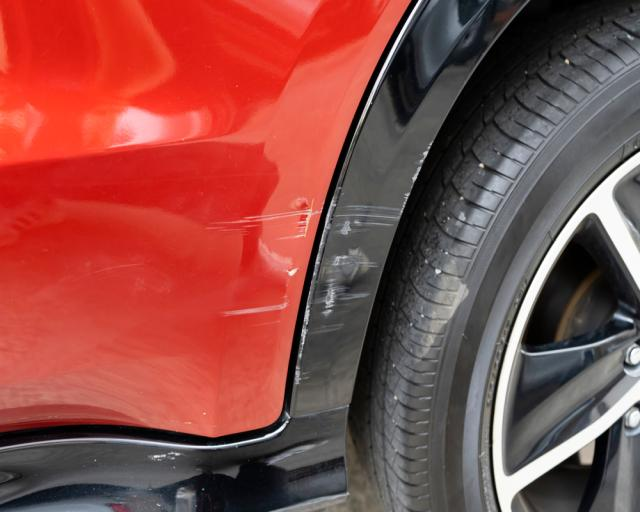scratch: (289, 194, 403, 386), (203, 196, 314, 323)
